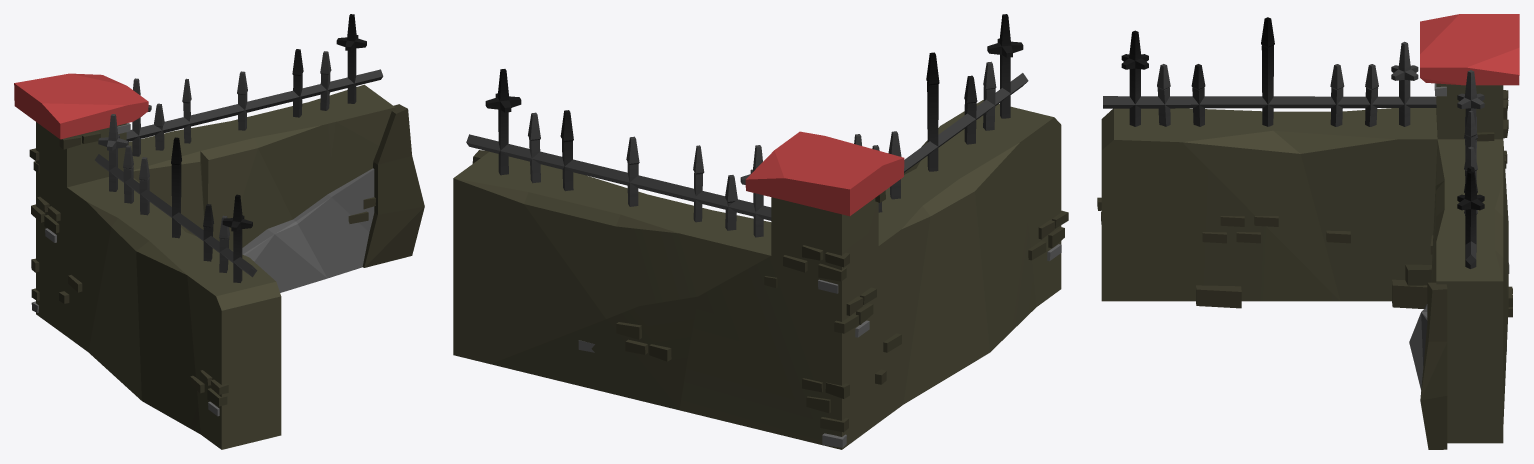
The model's file is ea_arch_wall03_corner_01c_pre_2_lev1.glb.
3 views of the same model, side by side, from view 1: azimuth 30°, elevation 25°; view 2: azimuth 150°, elevation 25°; view 3: azimuth 270°, elevation 25° (orthographic). The views are drawn at different scales.
Visible parts, largest first — view 1: ea_arch_wall03_corner_01c_pre_2_lev1; view 2: ea_arch_wall03_corner_01c_pre_2_lev1; view 3: ea_arch_wall03_corner_01c_pre_2_lev1.
Boxes of the visible parts, x1,y1,x2,y2 form: ea_arch_wall03_corner_01c_pre_2_lev1: [14, 14, 424, 449]; ea_arch_wall03_corner_01c_pre_2_lev1: [453, 14, 1068, 449]; ea_arch_wall03_corner_01c_pre_2_lev1: [1097, 14, 1519, 449].
Bounding box in the file's own units: 4.87 × 3.18 × 4.51.
Materials: 1 (1 with a texture image).
